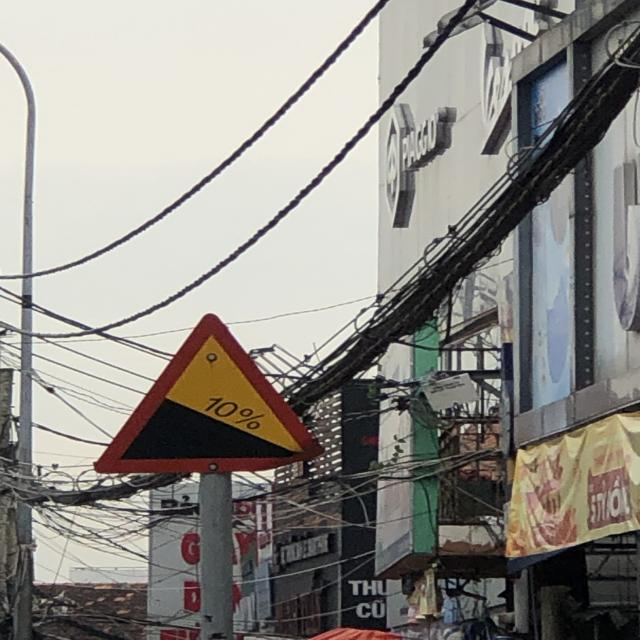Bien bao doc xuong nguy hiem: (87, 306, 330, 473)
